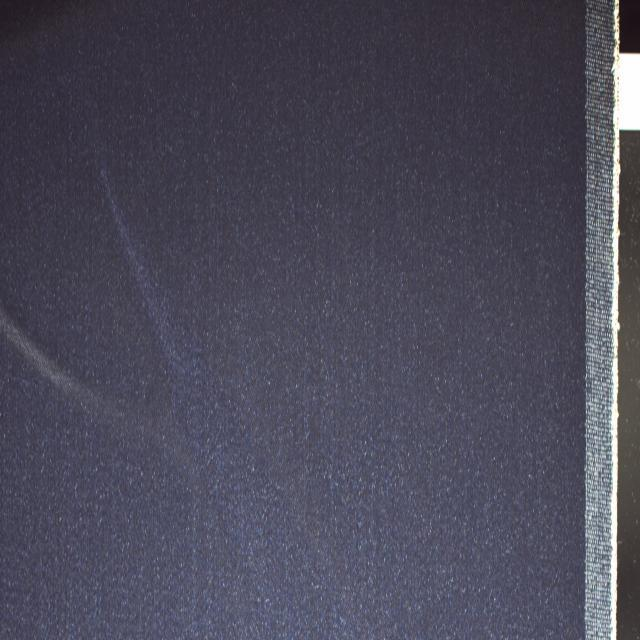Stain: (0, 284, 198, 483)
